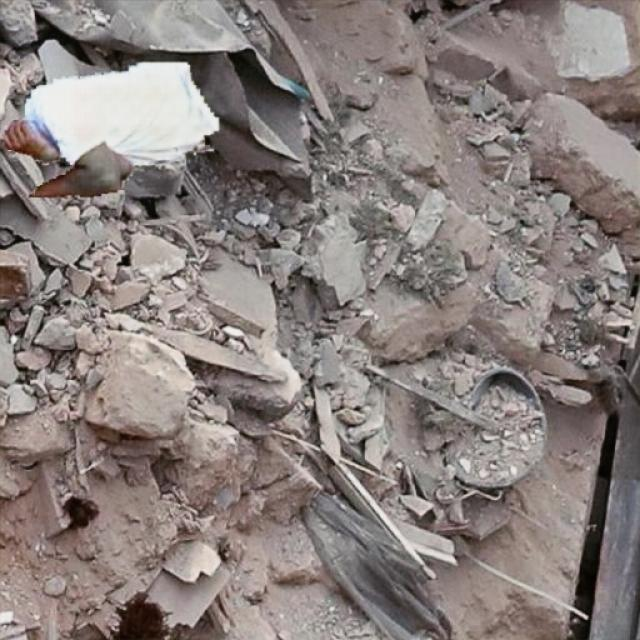Person in Rubble: (1, 62, 218, 196)
